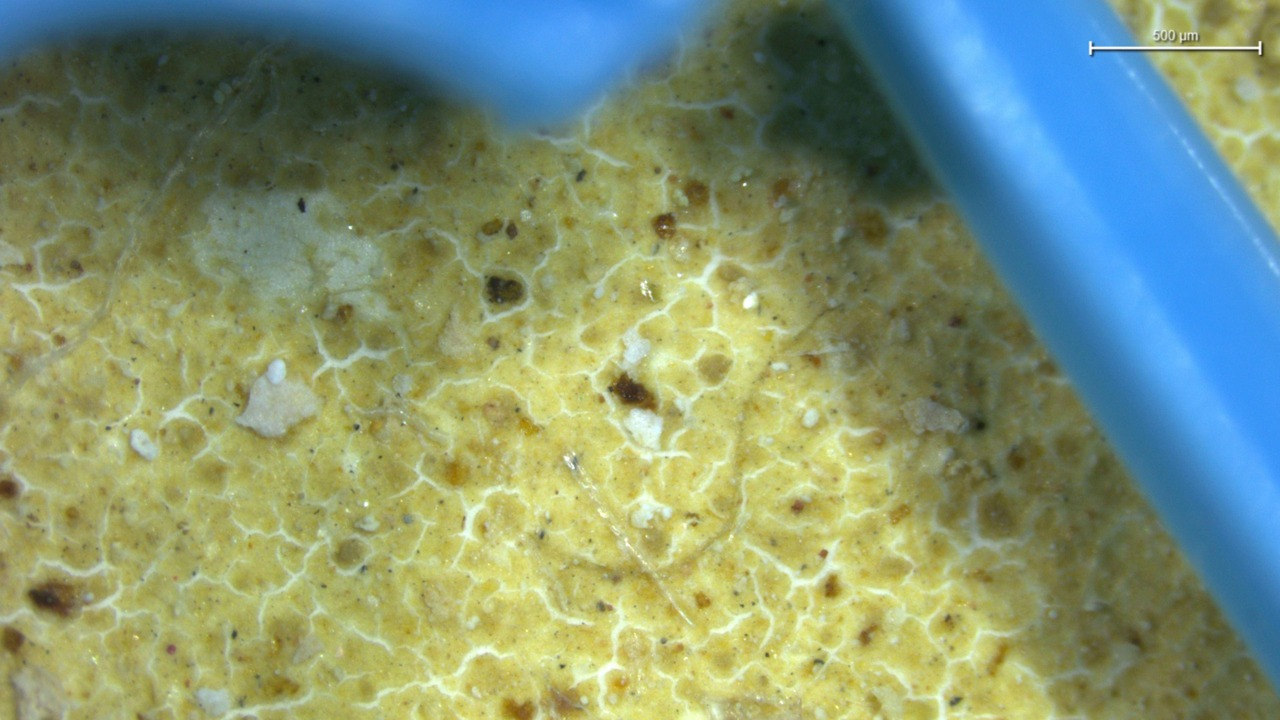microplastic_fragment: (236, 359, 318, 437), (129, 429, 159, 460)
